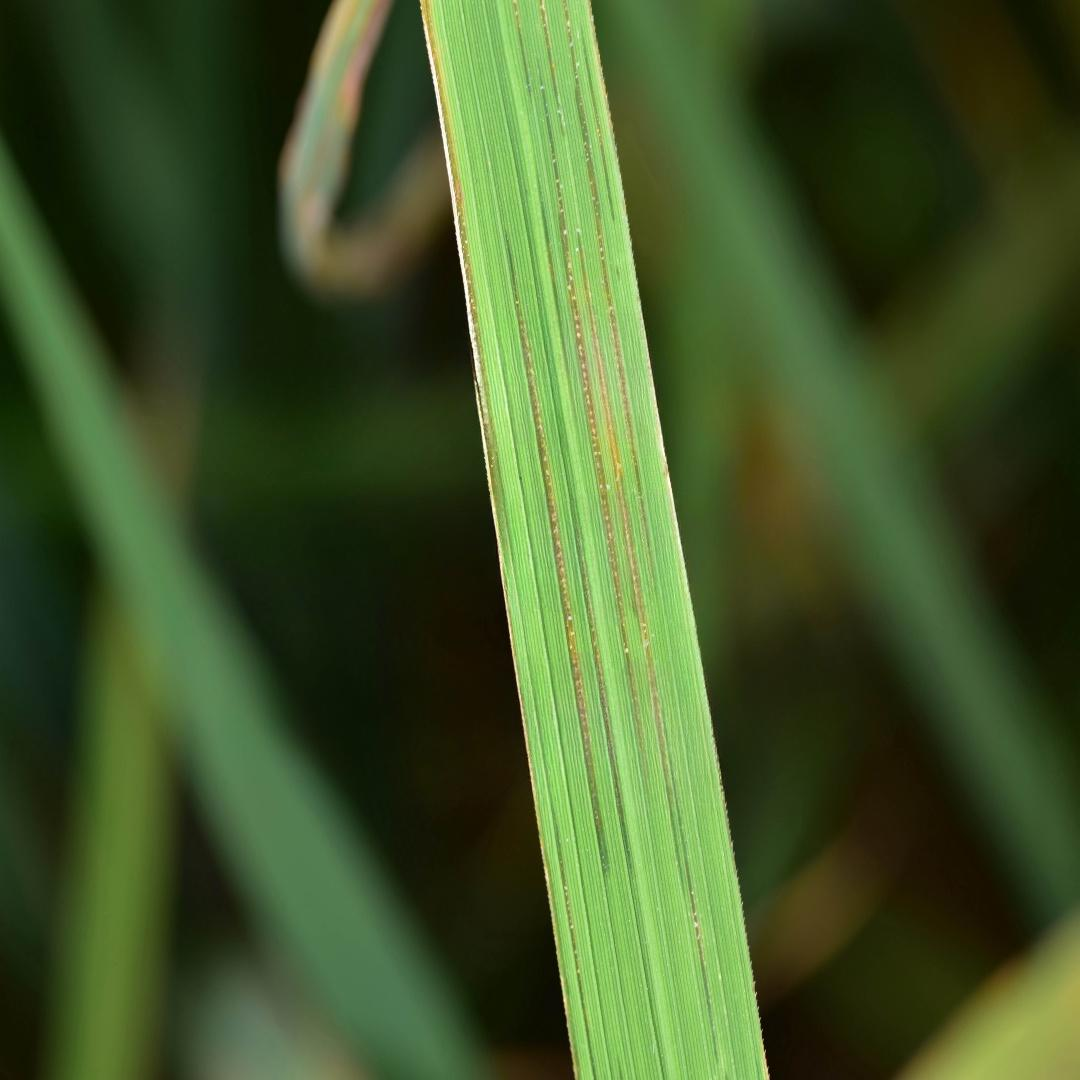BLS: (422, 0, 577, 1079), (536, 62, 647, 766), (577, 230, 684, 887), (504, 232, 611, 877), (563, 0, 653, 562), (572, 514, 630, 857), (553, 820, 598, 1077), (676, 800, 719, 1066), (540, 195, 573, 398), (580, 31, 614, 224), (539, 2, 565, 138), (512, 1, 532, 98)
LEAF: (422, 0, 770, 1079)
